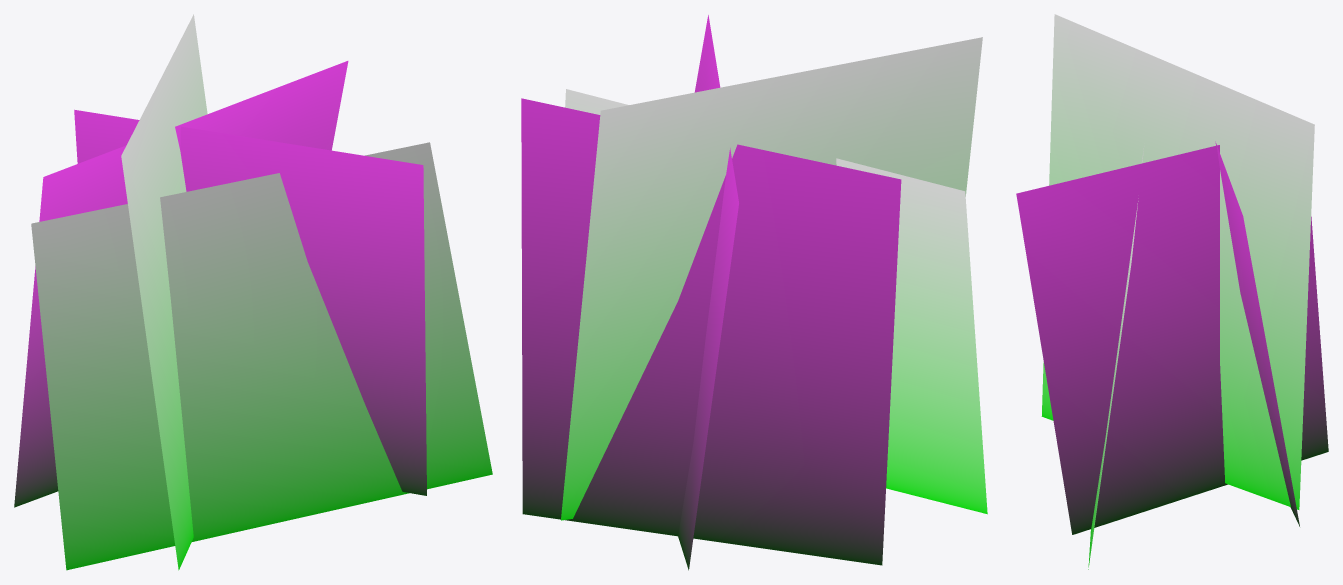
The model's file is Veg_TerrainGrass.fbx.
3 views of the same model, side by side, from view 1: azimuth 30°, elevation 25°; view 2: azimuth 150°, elevation 25°; view 3: azimuth 270°, elevation 25° (orthographic). The views are drawn at different scales.
Visible parts, largest first — view 1: Veg_TerrainGrass; view 2: Veg_TerrainGrass; view 3: Veg_TerrainGrass.
Part boxes in pixels (x1,y1,x2,y2): Veg_TerrainGrass: [14, 14, 492, 570]; Veg_TerrainGrass: [521, 15, 987, 570]; Veg_TerrainGrass: [1016, 14, 1328, 569].
Bounding box in the file's own units: 38.03 × 36.39 × 26.75.
